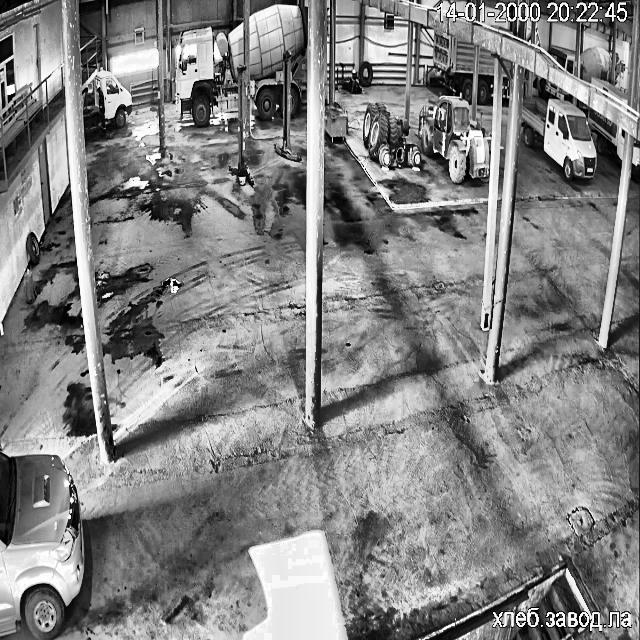car: (0, 452, 84, 638)
car lift: (229, 66, 253, 185), (274, 52, 300, 161)
fire extinguisher: (24, 268, 35, 301)
mechanic: (98, 86, 105, 132)
tractor: (418, 96, 489, 182), (362, 103, 420, 167)
truck: (176, 24, 244, 124), (248, 4, 306, 118), (521, 100, 596, 180), (433, 28, 474, 100), (83, 69, 132, 126), (588, 108, 624, 158), (580, 46, 610, 82), (477, 49, 494, 103), (592, 78, 628, 102), (539, 78, 571, 100), (549, 45, 574, 73), (632, 140, 640, 179), (616, 52, 623, 76), (500, 77, 508, 98), (504, 60, 510, 69)
